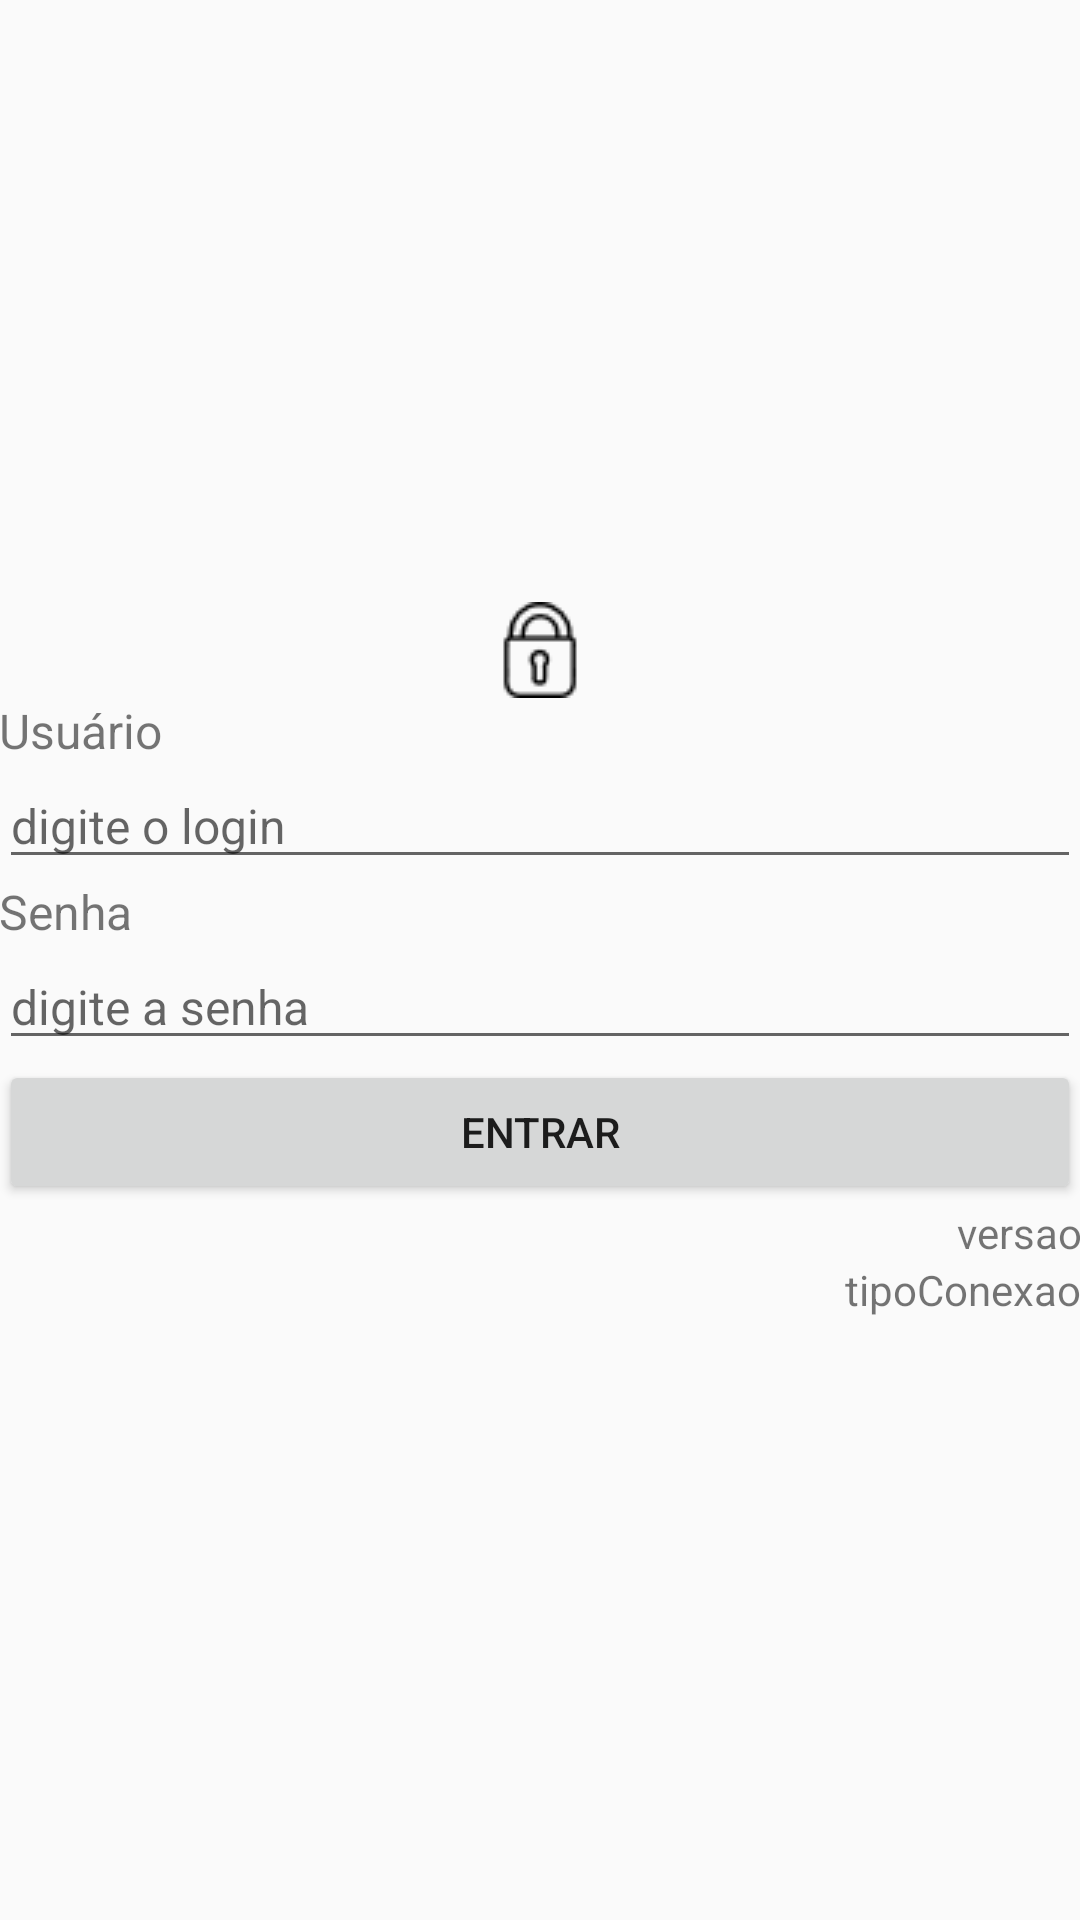

Screen size 1080x1920. Icon name, then its box in pixels as Rect(x1, y1, x2, y2):
cadeado: Rect(503, 602, 577, 698)
